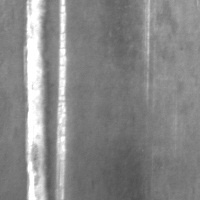scratches: (21, 0, 58, 199), (55, 0, 67, 199), (140, 0, 154, 109)
